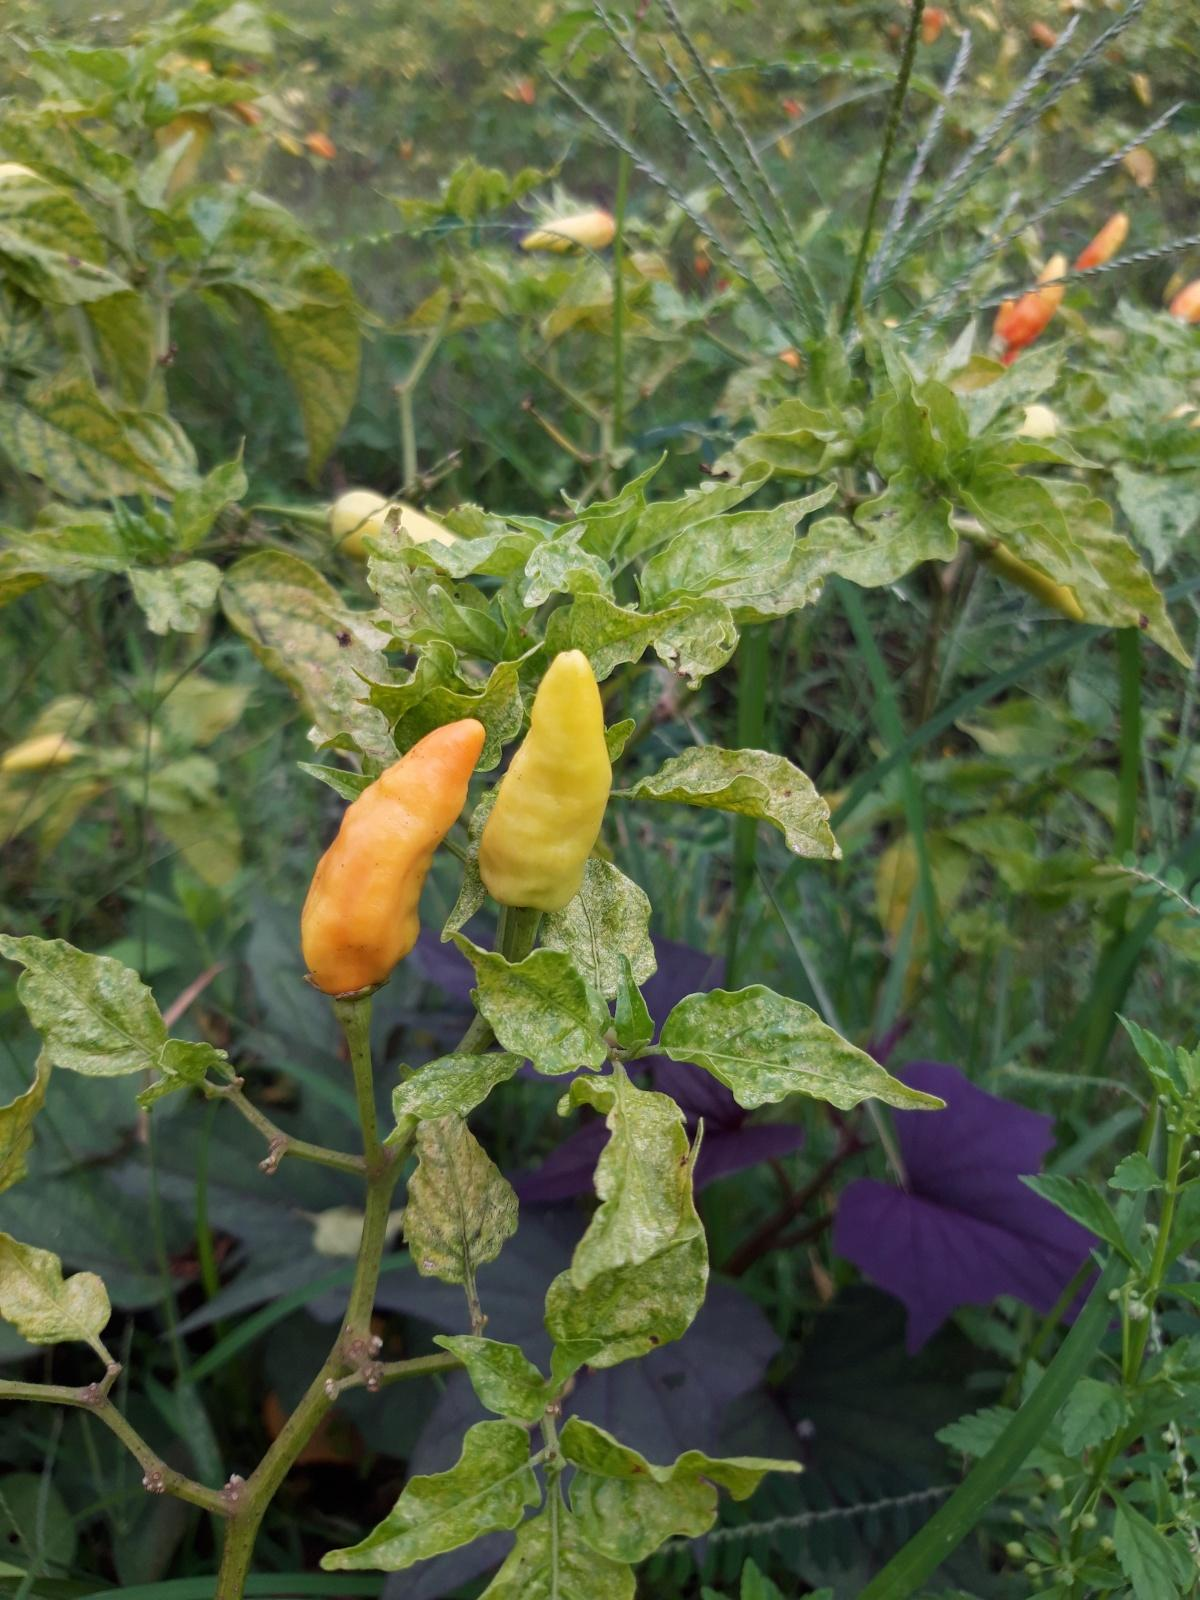cabai_normal: (300, 716, 485, 994), (478, 650, 613, 912), (997, 253, 1066, 348), (518, 210, 616, 257), (1073, 213, 1128, 277)
